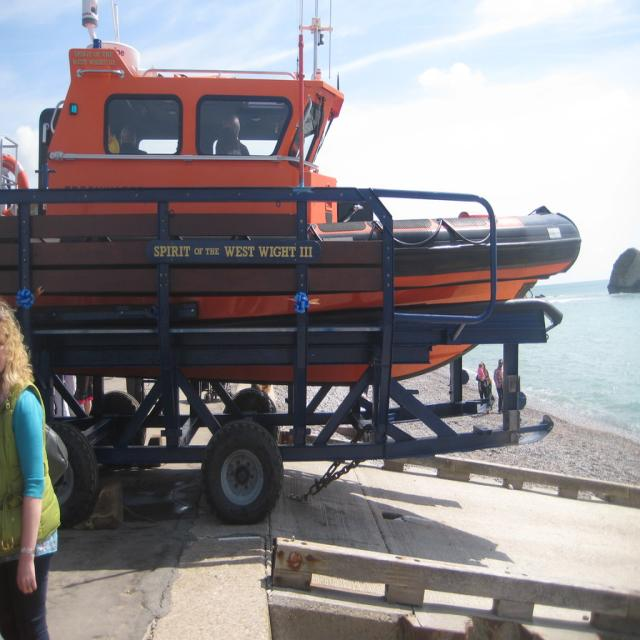Boat: (0, 0, 586, 387)
